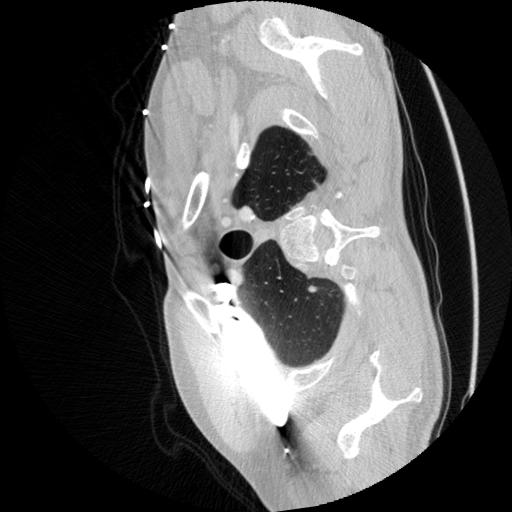nodule: (305, 283, 321, 299)
